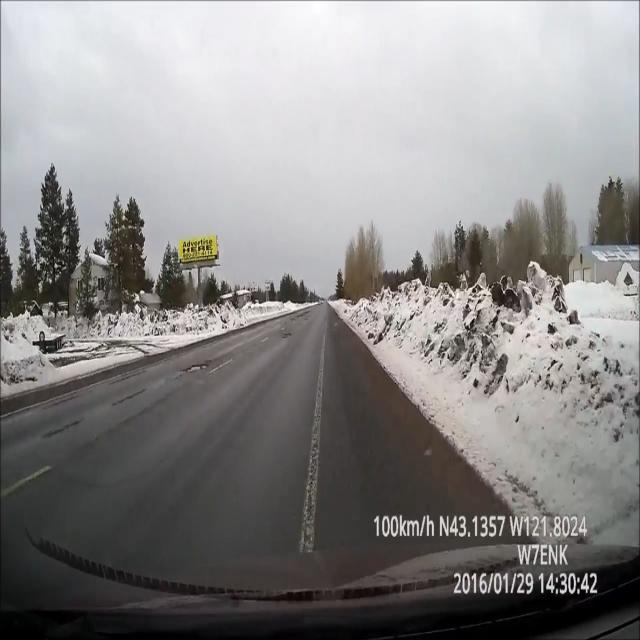Pothole: (176, 360, 214, 376)
